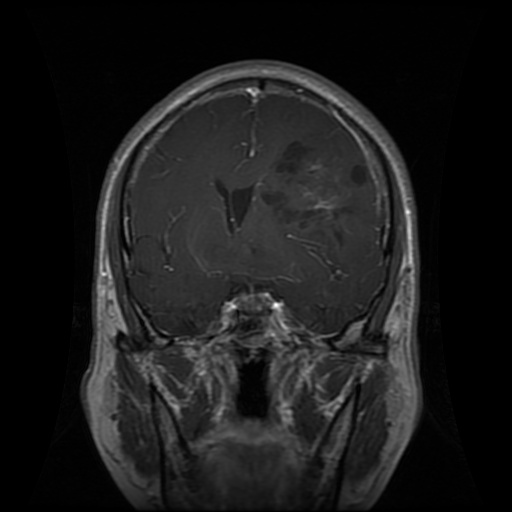glioma: (257, 139, 371, 241)
